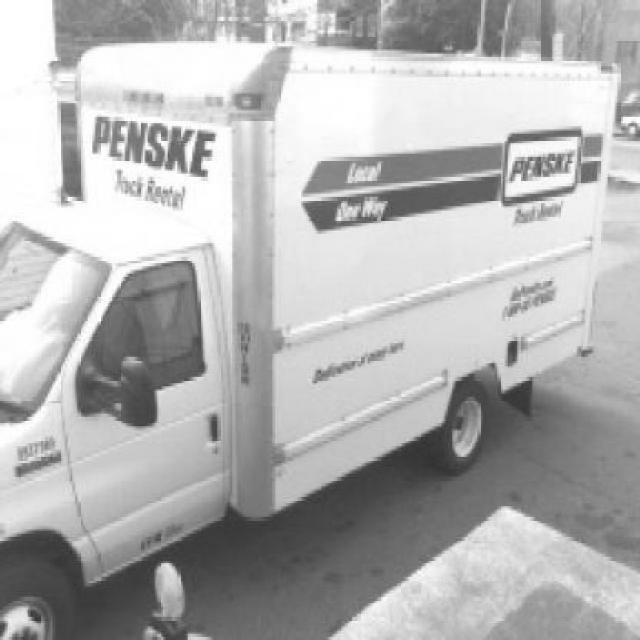Box Truck: (0, 42, 620, 640)
